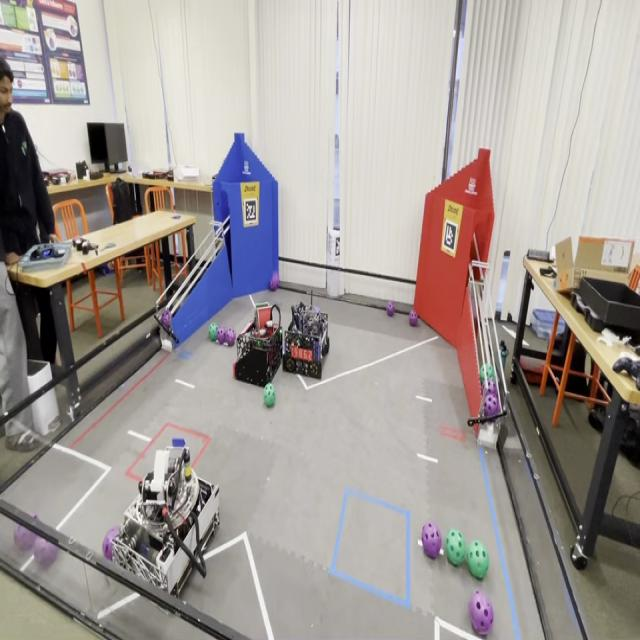artifact_green: (467, 541, 489, 579), (445, 529, 465, 566), (480, 363, 495, 383), (264, 383, 275, 407), (217, 326, 226, 344), (209, 323, 217, 341), (256, 341, 263, 348), (279, 328, 282, 335)
artifact_purple: (469, 591, 493, 636), (34, 537, 58, 568), (422, 522, 441, 559), (14, 524, 37, 551), (103, 526, 120, 561), (484, 394, 499, 417), (482, 379, 497, 395), (161, 309, 171, 331), (269, 273, 279, 291), (217, 326, 226, 344), (226, 329, 235, 346), (410, 310, 418, 327), (387, 302, 395, 316)
